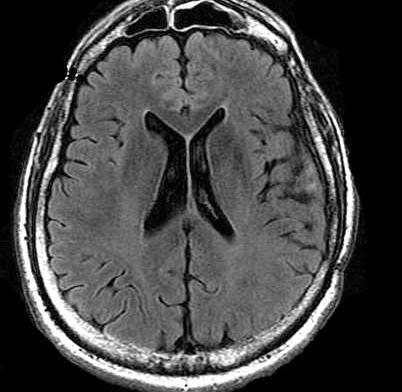Normal_Brain: (7, 12, 368, 392)
